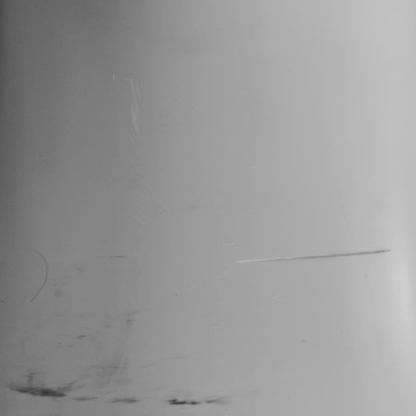sunshang: (240, 247, 394, 268), (28, 248, 47, 304)
